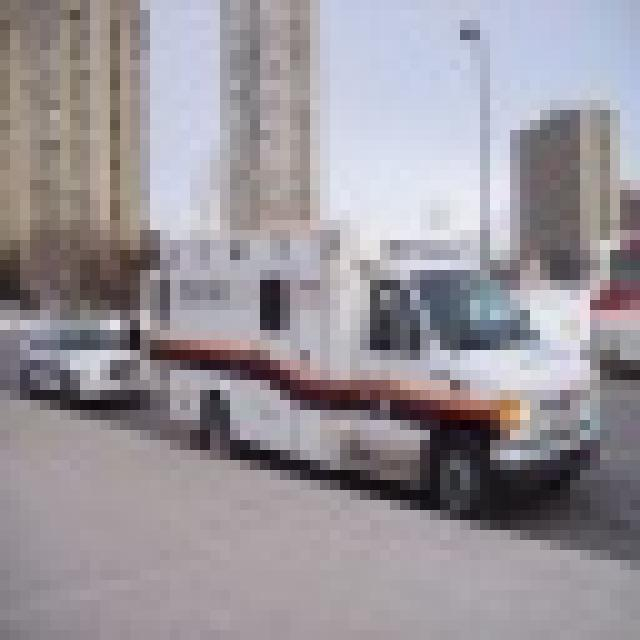ambulance: (130, 220, 600, 510)
